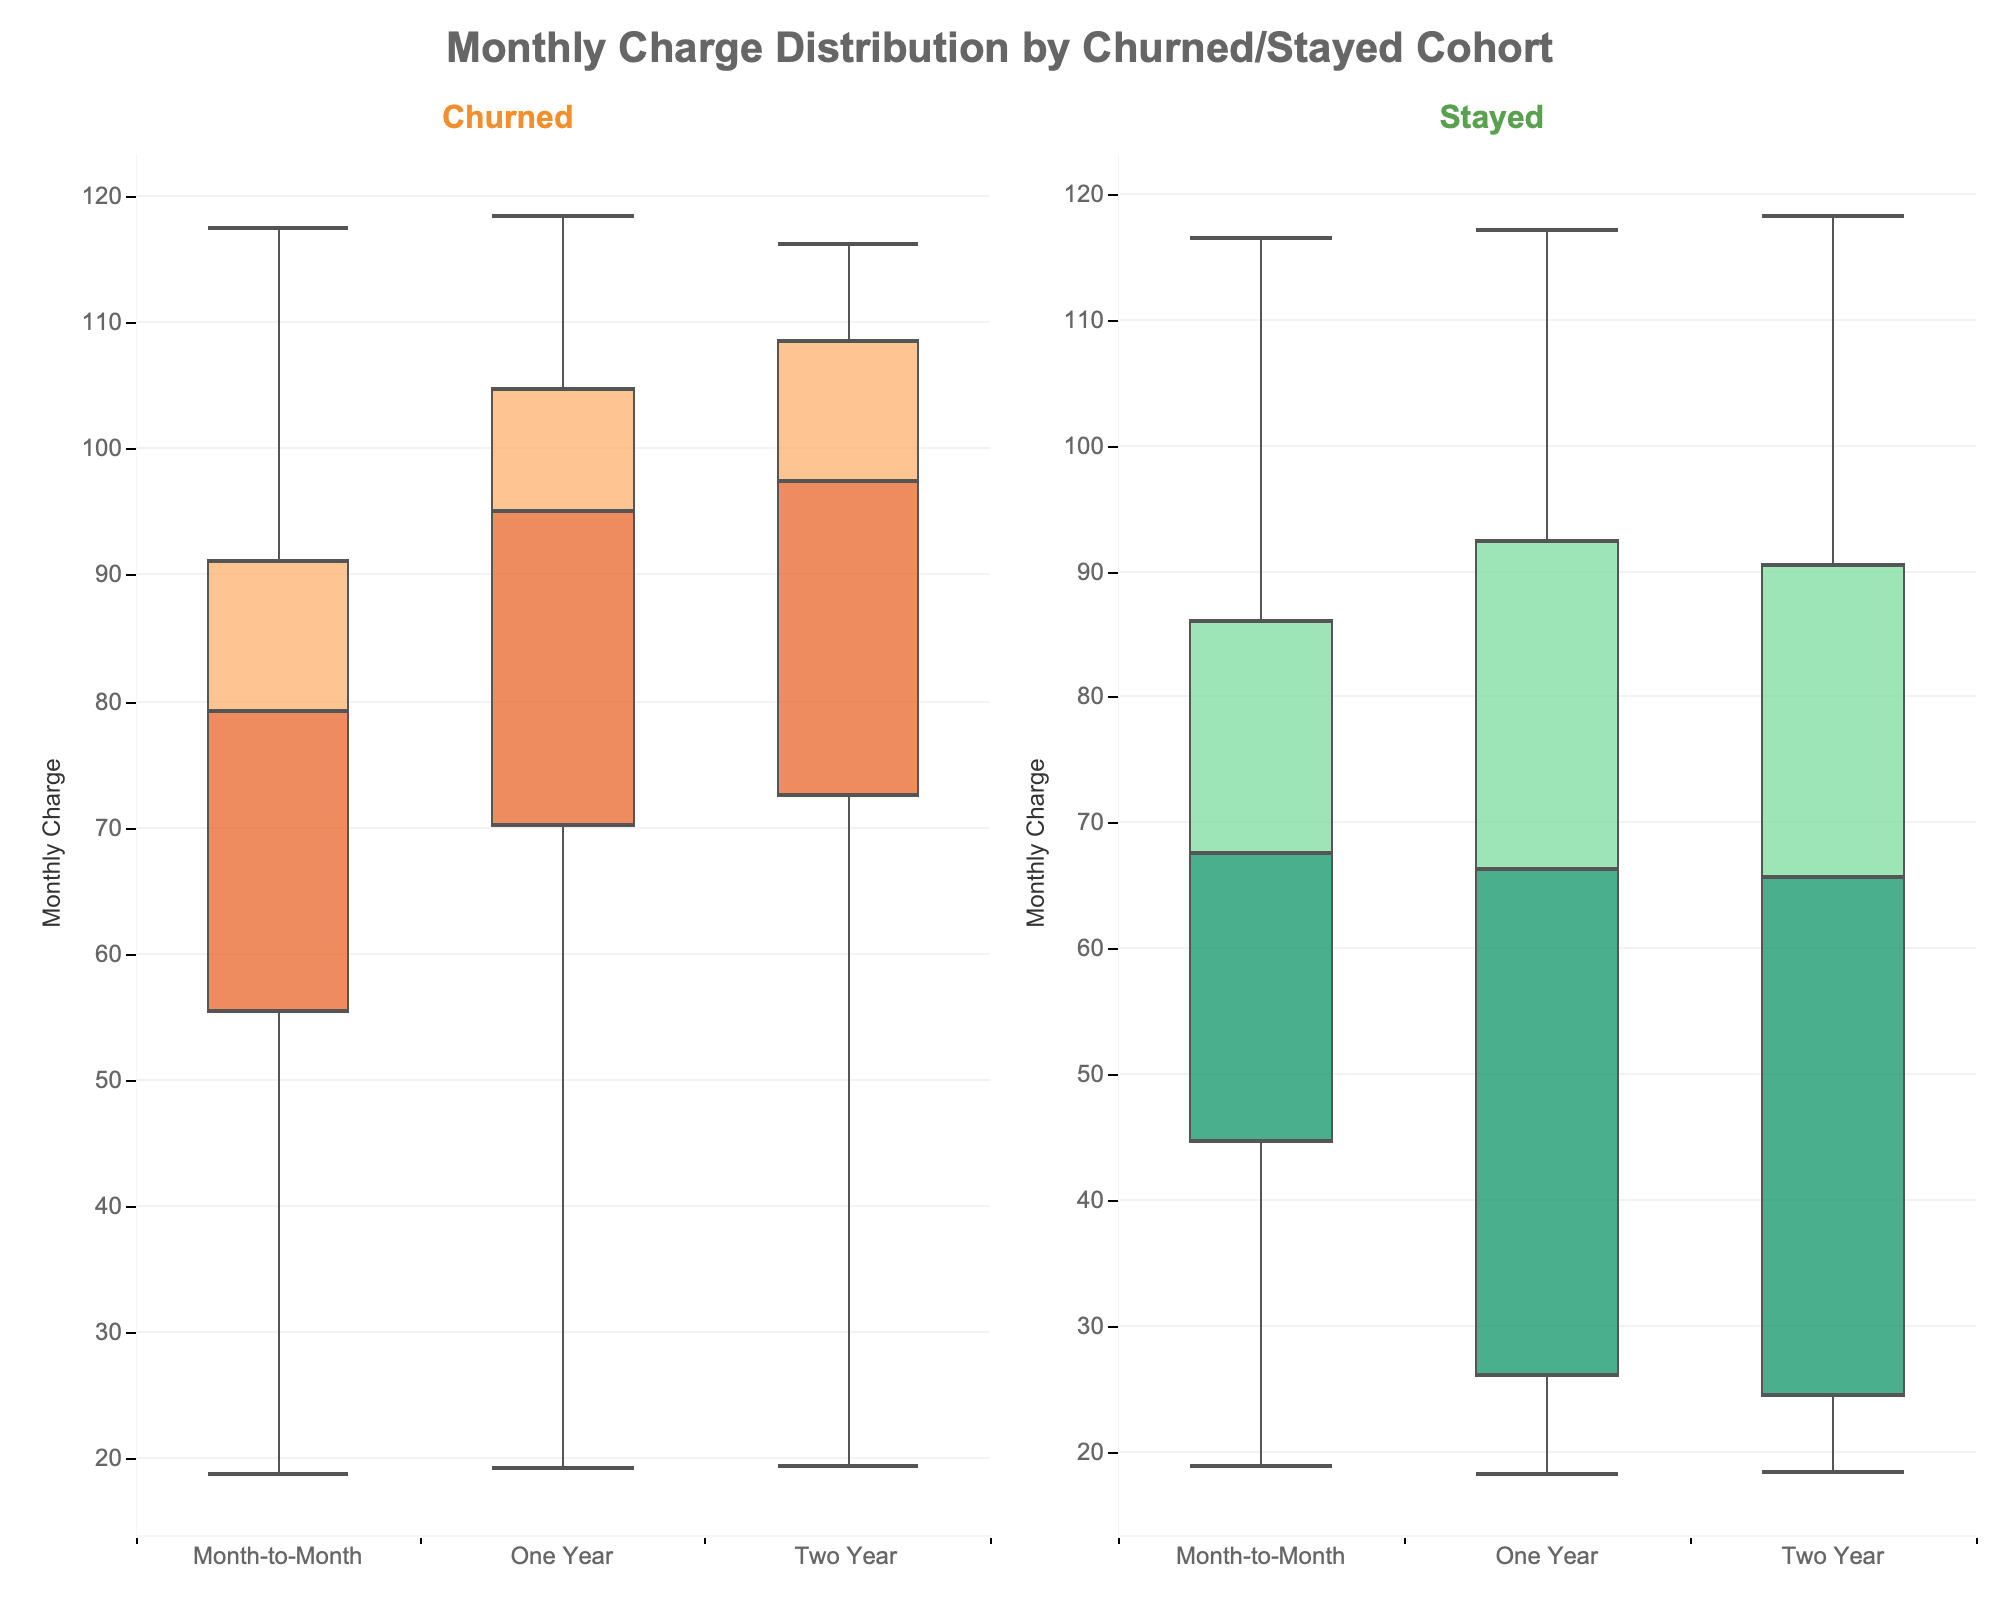

Layout of this report page (visuals, bound fields, positions):
{"tool":"tableau","page":{"name":"Churners vs. Stayers, Mth Charge","canvas":[1000,800],"ordinal":0},"visuals":[{"type":"text","box":[8,8,984,32]},{"type":"worksheet","title":"Churned, Monthly Charge","mark":"Heatmap","rows":["Monthly Charge"],"cols":["Contract"],"box":[8,40,492,752]},{"type":"worksheet","title":"Stayed, Monthly Charge","mark":"Heatmap","rows":["Monthly Charge"],"cols":["Contract"],"box":[500,40,492,752]}]}

Visuals, with their boxes in screenshot pixels (x1, y1, x2, y2), scaled from the page's 1000x800 canvas onto the 2000x1600 screenshot:
text: (left=16, top=16, right=1984, bottom=80)
"Churned, Monthly Charge" worksheet (Heatmap marks): (left=16, top=80, right=1000, bottom=1584)
"Stayed, Monthly Charge" worksheet (Heatmap marks): (left=1000, top=80, right=1984, bottom=1584)
